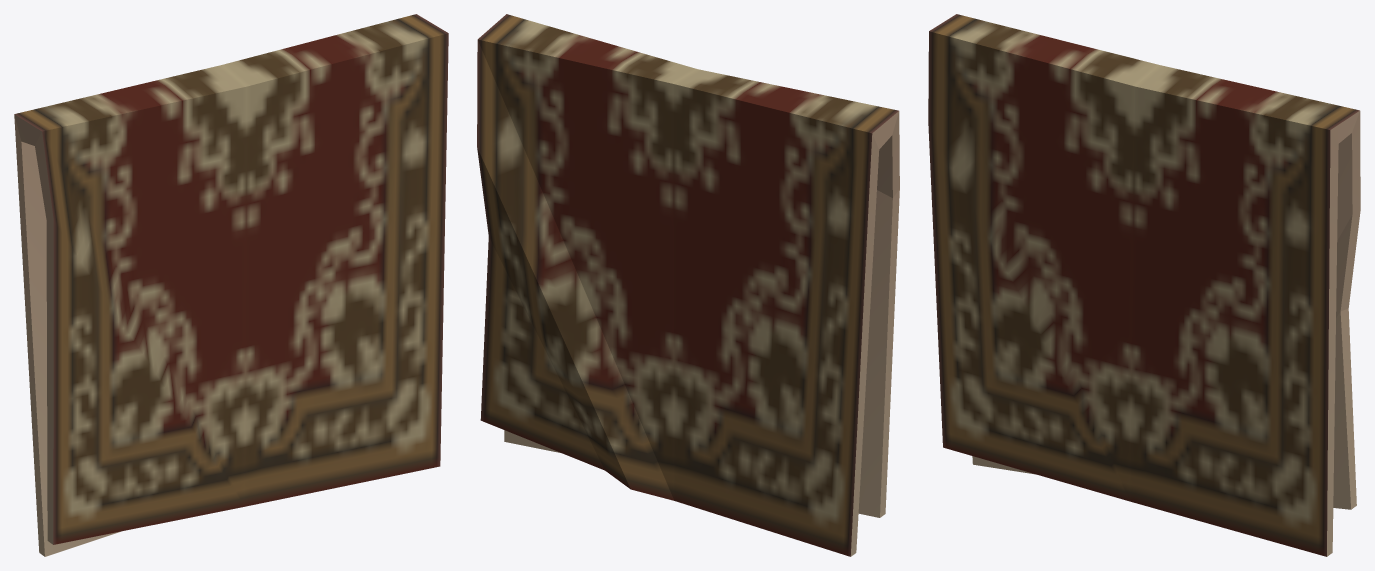
Rendered from SM_Prop_Rug_Hanging_05.fbx.
3 views of the same model, side by side, from view 1: azimuth 30°, elevation 25°; view 2: azimuth 150°, elevation 25°; view 3: azimuth 330°, elevation 25° (orthographic). The views are drawn at different scales.
Visible parts, largest first — view 1: SM_Prop_Rug_Hanging_05; view 2: SM_Prop_Rug_Hanging_05; view 3: SM_Prop_Rug_Hanging_05.
Part boxes in pixels (left/top/right/bottom): SM_Prop_Rug_Hanging_05: left=14, top=14, right=448, bottom=556; SM_Prop_Rug_Hanging_05: left=477, top=14, right=899, bottom=556; SM_Prop_Rug_Hanging_05: left=928, top=14, right=1360, bottom=556.
Size of the model in its own units: 91.25 by 95.94 by 16.28.
